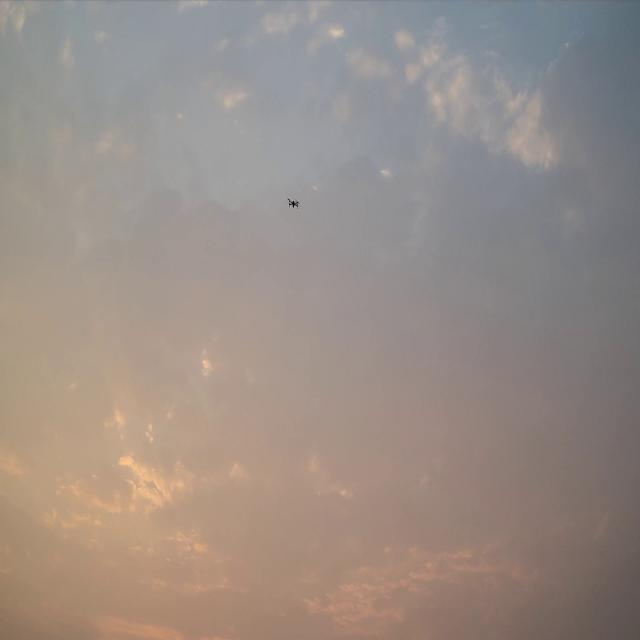UAV: (287, 196, 301, 209)
